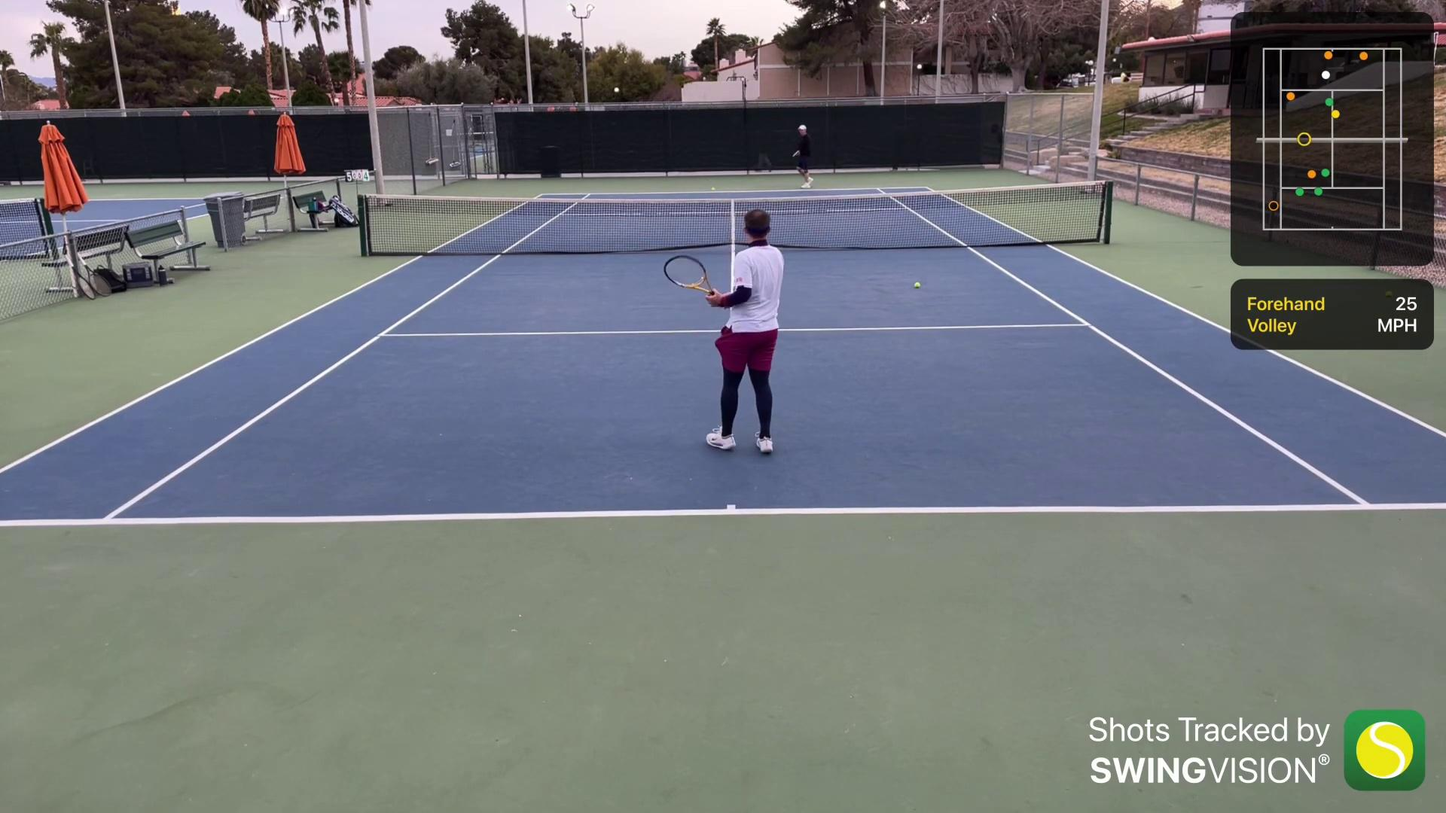ball: (912, 277, 924, 294), (709, 186, 718, 194)
